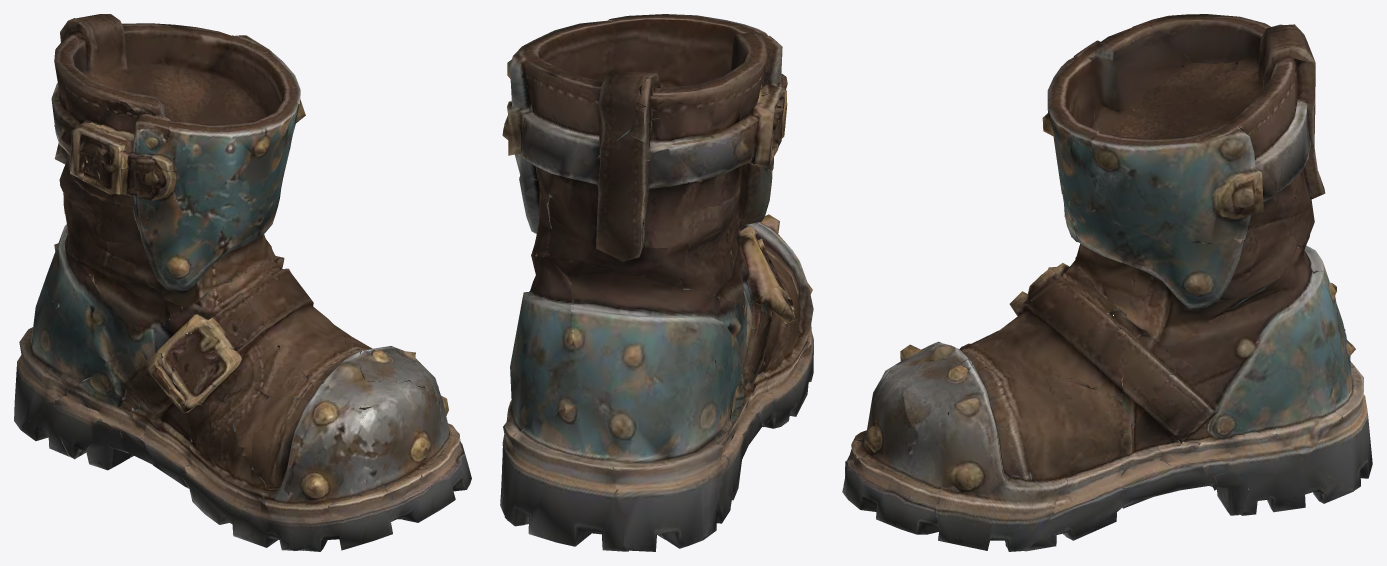
File: armor_town_iron_feet.glb
3 views of the same model, side by side, from view 1: azimuth 30°, elevation 25°; view 2: azimuth 150°, elevation 25°; view 3: azimuth 270°, elevation 25° (orthographic). The views are drawn at different scales.
Visible parts, largest first — view 1: Mesh_0; view 2: Mesh_0; view 3: Mesh_0.
Boxes of the visible parts, left/top/right/bottom form: Mesh_0: left=14, top=14, right=471, bottom=551; Mesh_0: left=500, top=14, right=813, bottom=551; Mesh_0: left=842, top=14, right=1372, bottom=551.
Bounding box in the file's own units: 0.4276 × 0.5905 × 0.6532.
1 material, 1 textured.
